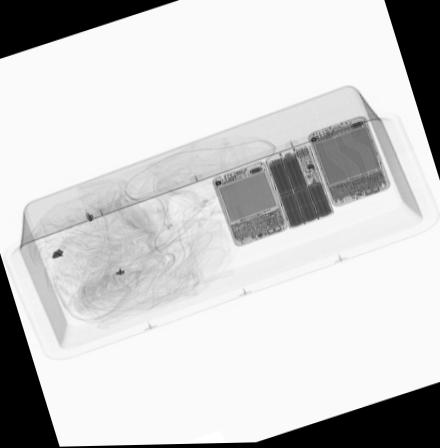Powerbank: (261, 140, 336, 232)
